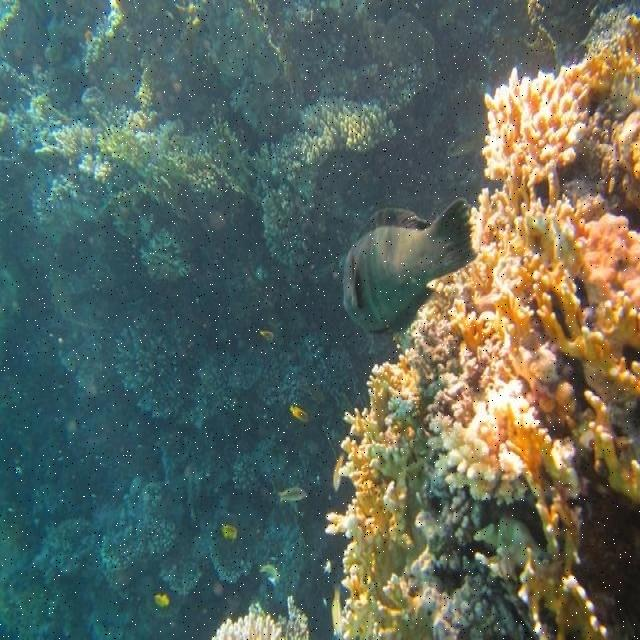fish: (342, 198, 479, 355)
reefs: (327, 16, 639, 638)
